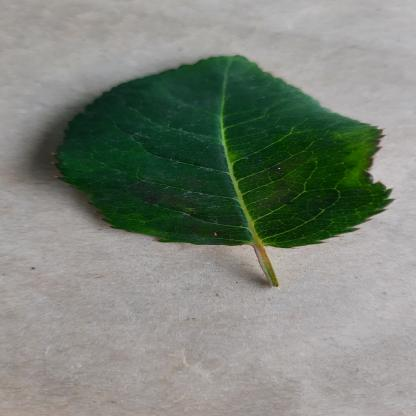downy-mildew: (53, 52, 394, 250)
